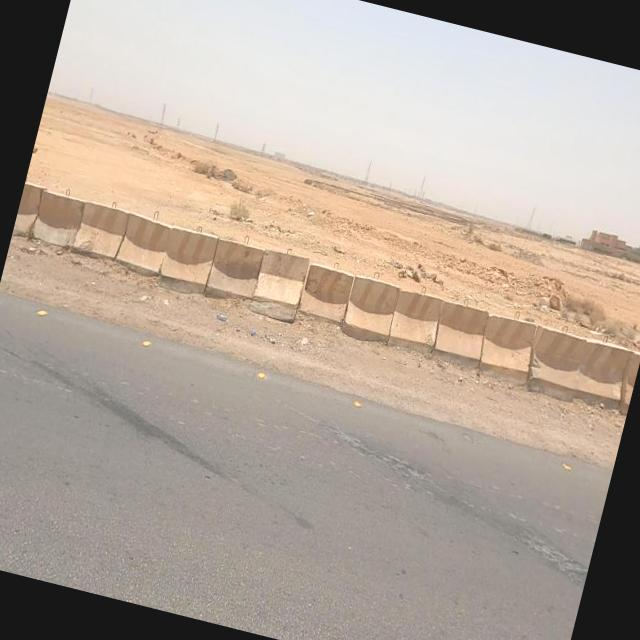debris: (188, 284, 256, 359), (225, 304, 275, 363)
